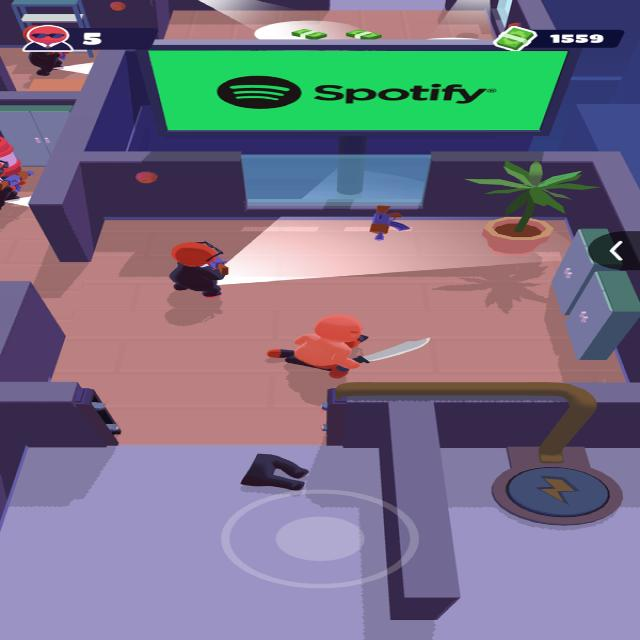billboard: (145, 47, 576, 135)
